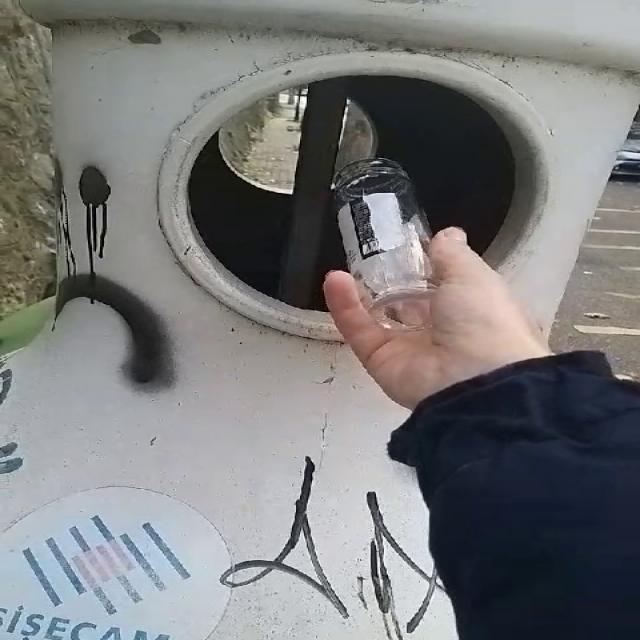Glass: (333, 157, 436, 331)
